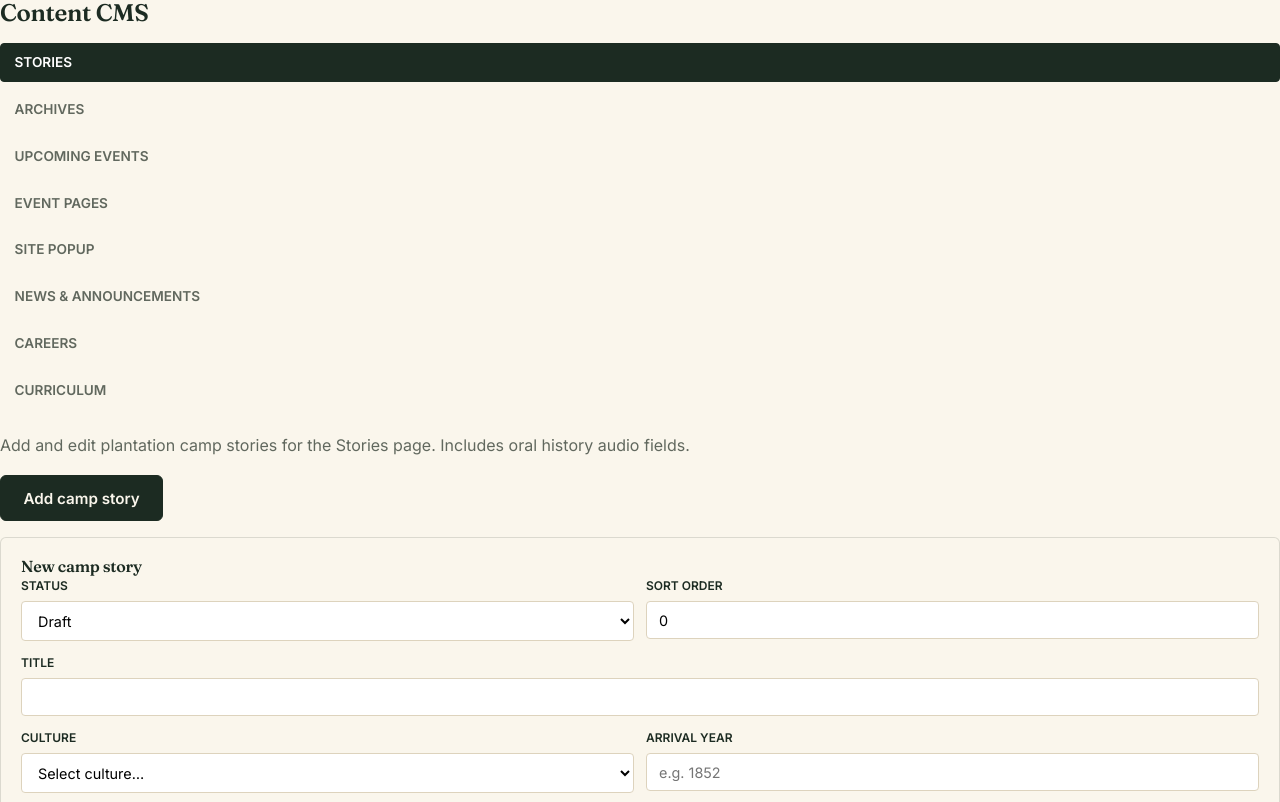
Test: CmsAdminPanel › switches to news, careers, curriculum, and upcoming events tabs
Click the button "News & Announcements".
click(107, 296)  # box [0,277,1279,316]
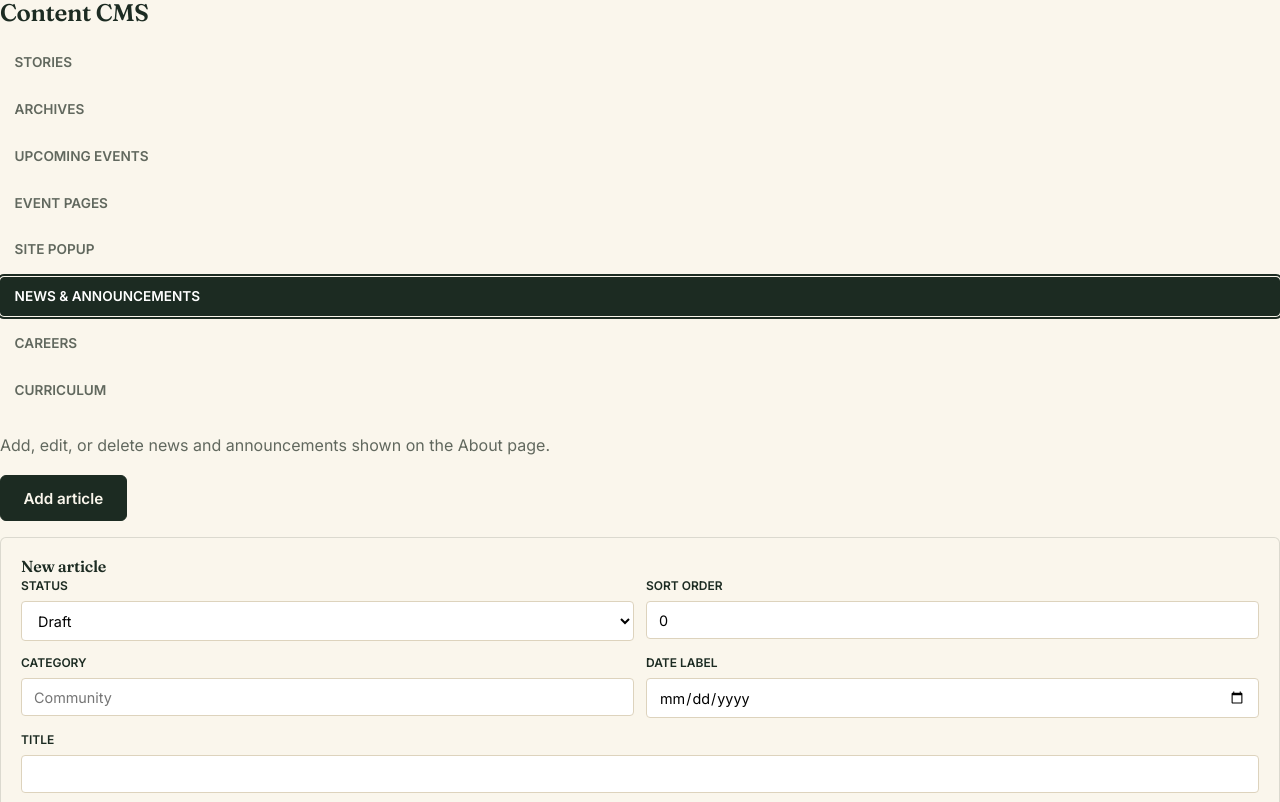
Check: the text "news and announcements" is shown, box [0,435,550,455]
Click the button "Careers".
click(46, 343)  # box [0,324,1279,362]
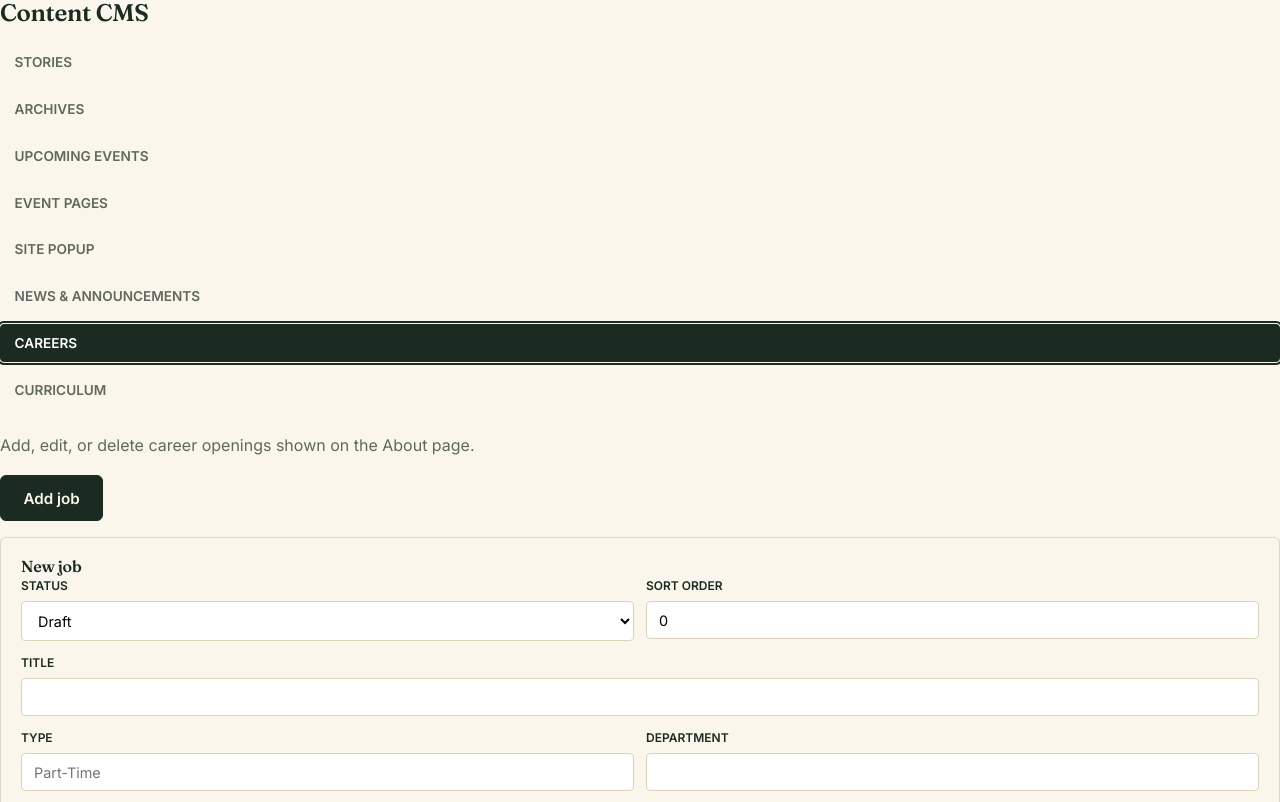
Check: the text "career openings" is shown, box [0,435,475,455]
Click the button "Curriculum".
click(60, 390)  # box [0,370,1279,409]
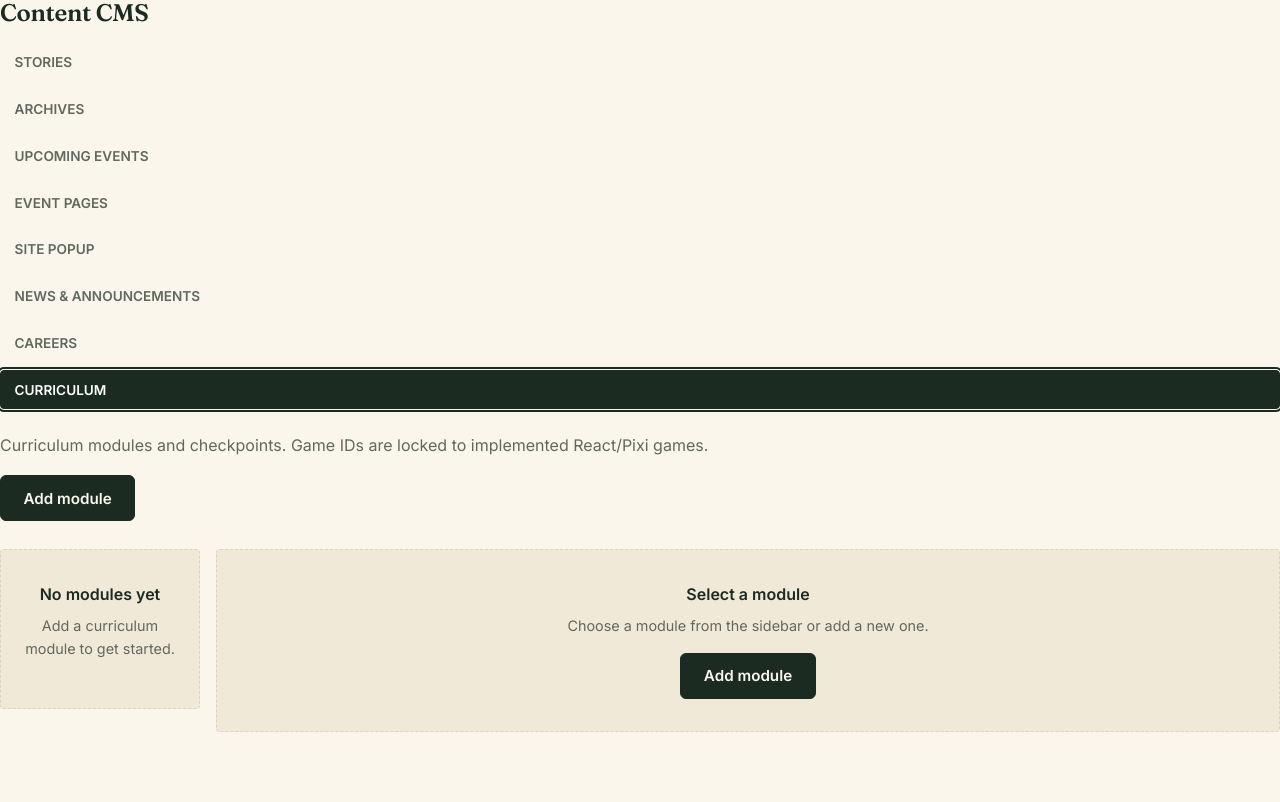
Check: the text "No modules yet" is shown, box [40,584,160,604]
Click the button "Upcoming Events".
click(82, 156)  # box [0,136,1279,175]
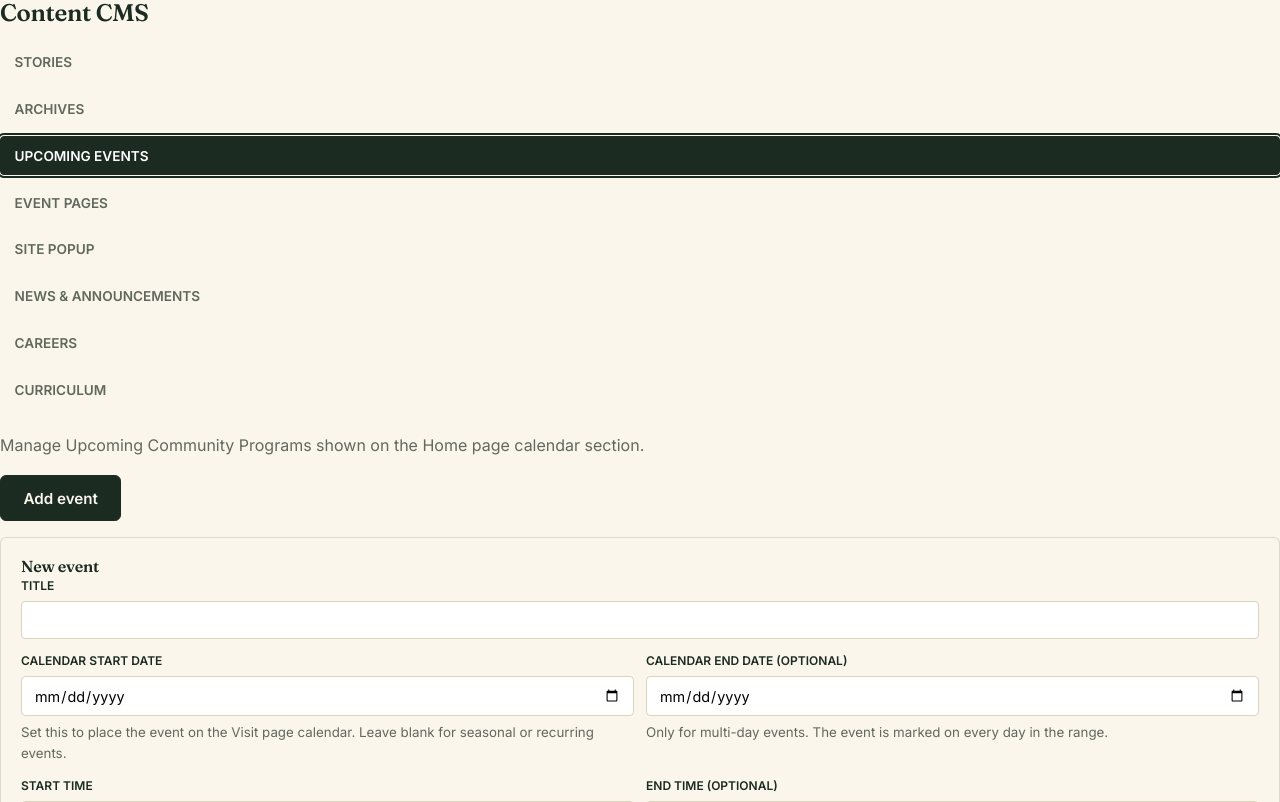
Check: the text "Upcoming Community Programs" is shown, box [0,435,644,455]
